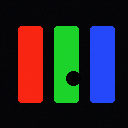2 circle: (66, 71, 80, 85)
